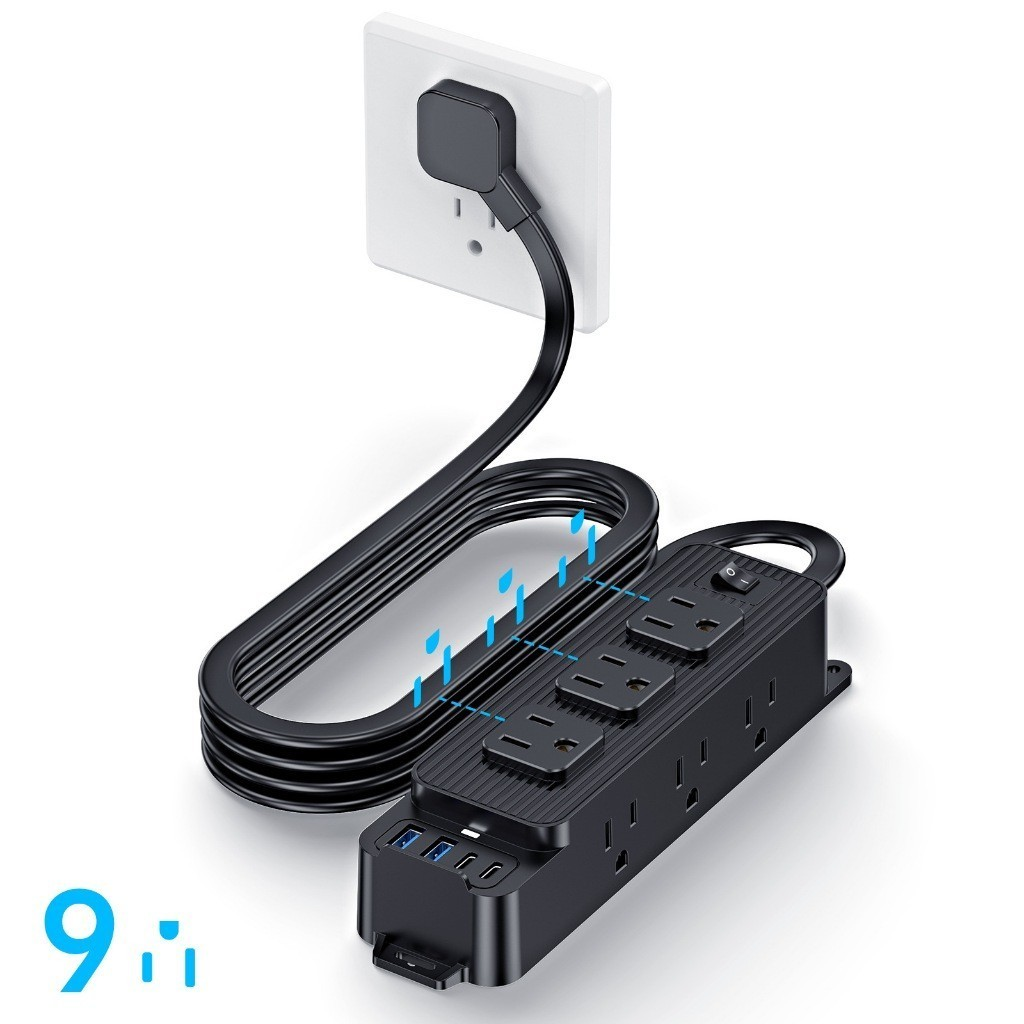socket: (356, 541, 830, 993)
